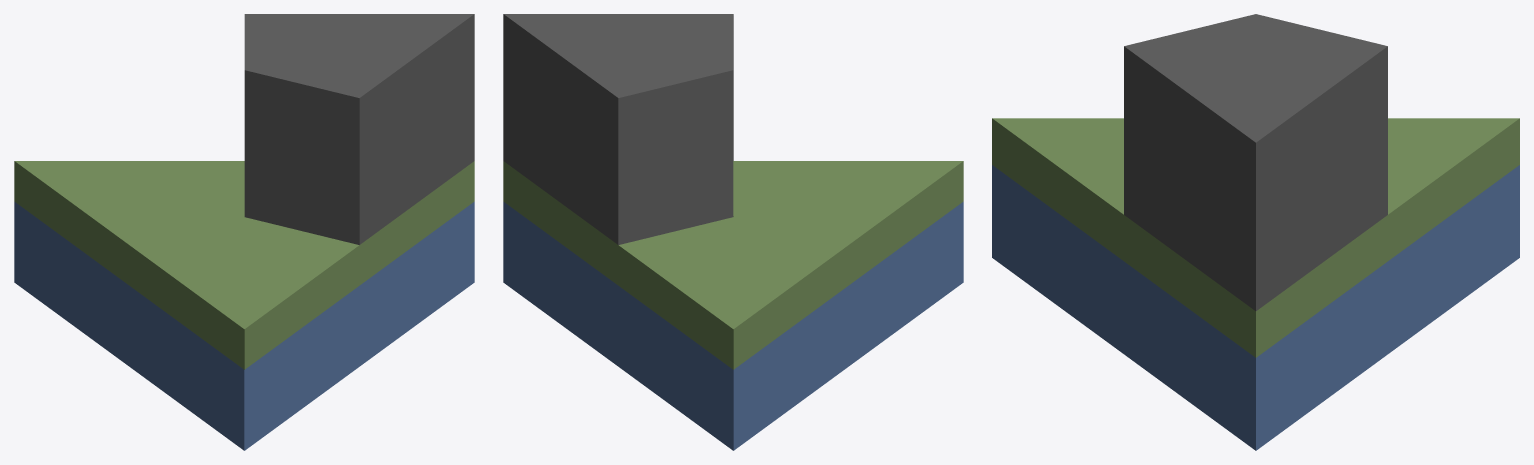
Rendered from tri_12.glb.
3 renders of one model, left to right at view 1: azimuth 30°, elevation 25°; view 2: azimuth 150°, elevation 25°; view 3: azimuth 270°, elevation 25°, orthographic. The views are drawn at different scales.
Parts seen in each view (by area): view 1: tri_12; view 2: tri_12; view 3: tri_12.
Boxes of the visible parts, x1,y1,x2,y2 form: tri_12: [14, 14, 474, 450]; tri_12: [503, 14, 963, 450]; tri_12: [992, 14, 1519, 450].
Size of the model in its own units: 0.7423 by 0.5521 by 0.8571.
